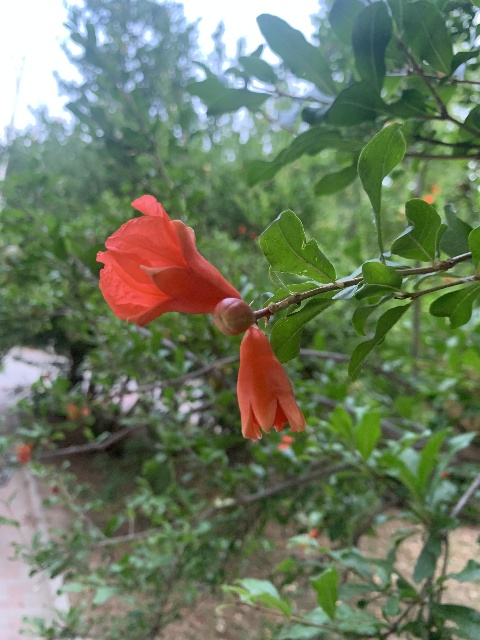bud: (213, 297, 253, 335)
flower: (95, 194, 243, 327), (236, 325, 305, 439)
